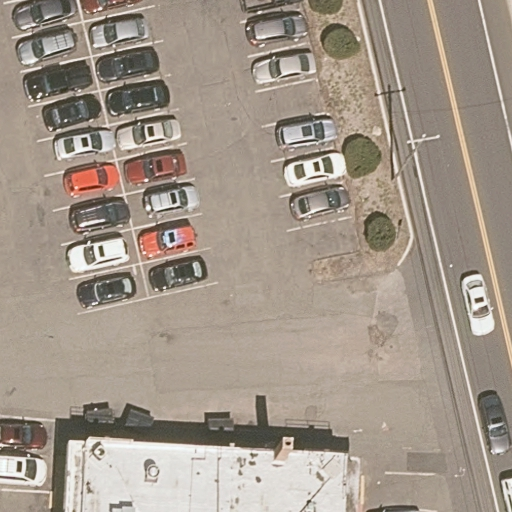DT: (391, 132, 440, 184)
